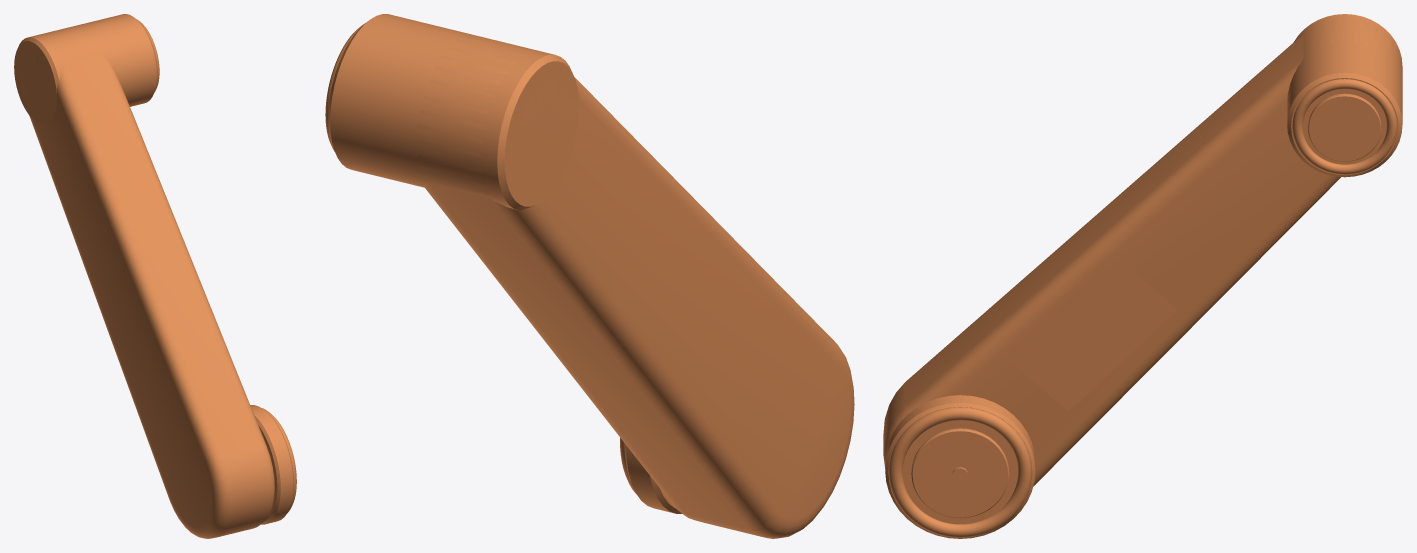
File: arm_04_forearm.obj
3 renders of one model, left to right at view 1: azimuth 30°, elevation 25°; view 2: azimuth 150°, elevation 25°; view 3: azimuth 270°, elevation 25°, orthographic. The views are drawn at different scales.
Parts seen in each view (by area): view 1: Arm_04_Forearm; view 2: Arm_04_Forearm; view 3: Arm_04_Forearm.
Part boxes in pixels (left/top/right/bottom): Arm_04_Forearm: left=14, top=14, right=296, bottom=538; Arm_04_Forearm: left=325, top=14, right=854, bottom=538; Arm_04_Forearm: left=883, top=14, right=1402, bottom=538.
Size of the model in its own units: 174 by 609 by 594.
